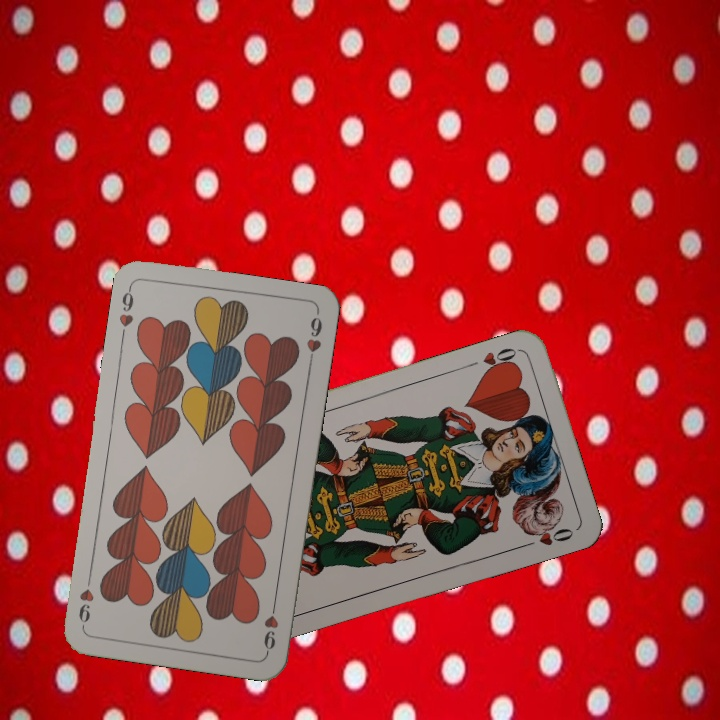H9: (259, 596, 281, 655), (114, 282, 137, 329)
HO: (463, 343, 521, 376)
